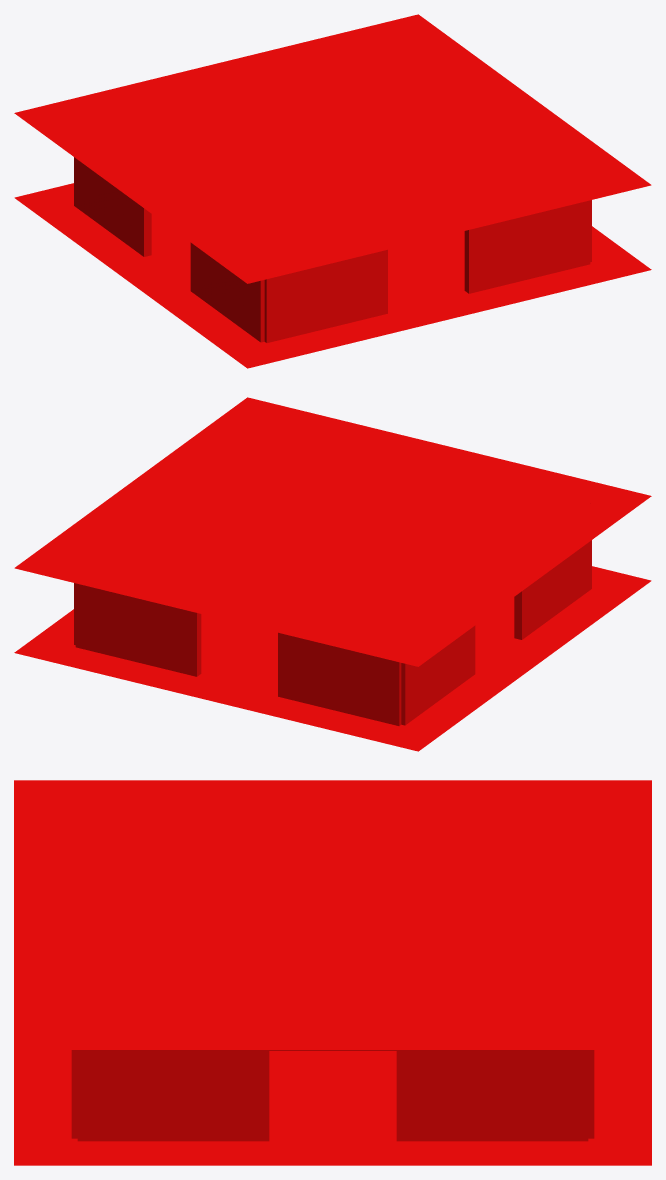
File: cave_room_g.dae
The picture shows the model from 3 angles, top to bottom: view 1: azimuth 30°, elevation 25°; view 2: azimuth 150°, elevation 25°; view 3: azimuth 270°, elevation 25°; orthographic projection. The views are drawn at different scales.
Visible parts, largest first — view 1: Plane.001, Plane, Cube.009, Cube.010, Cube.003, Cube.004, Cube.006, Cube.007, Cube.001; view 2: Plane.001, Plane, Cube.006, Cube.007, Cube.004, Cube.003, Cube.009, Cube.010, Cube; view 3: Plane.001, Plane, Cube.001, Cube, Cube.007, Cube.010, Cube.004, Cube.003, Cube.009, Cube.006, Cube.002, Cube.005 (+2 smaller).
Boxes of the visible parts, x1,y1,x2,y2 form: Plane.001: (14,14,651,283); Plane: (14,183,651,368); Cube.009: (263,226,387,342); Cube.010: (464,191,590,293); Cube.003: (190,205,265,342); Cube.004: (74,120,151,256); Cube.006: (76,89,200,121); Cube.007: (278,40,402,72); Cube.001: (398,40,474,93); Plane.001: (14,397,651,666); Plane: (14,566,651,751); Cube.006: (278,609,402,725); Cube.007: (75,560,201,676); Cube.004: (400,588,475,725); Cube.003: (514,503,591,639); Cube.009: (465,472,589,504); Cube.010: (263,423,387,455); Cube: (191,423,267,476); Plane.001: (14,780,651,1049); Plane: (14,1050,651,1165); Cube.001: (396,1020,588,1141); Cube: (77,1020,269,1141); Cube.007: (582,942,594,1138); Cube.010: (71,942,83,1138); Cube.004: (396,804,588,809); Cube.003: (77,804,269,809); Cube.009: (71,807,83,888); Cube.006: (582,807,594,888); Cube.002: (269,1020,396,1050); Cube.005: (269,804,396,809).
Bounding box in the file's own units: 1280 × 1280 × 256.
